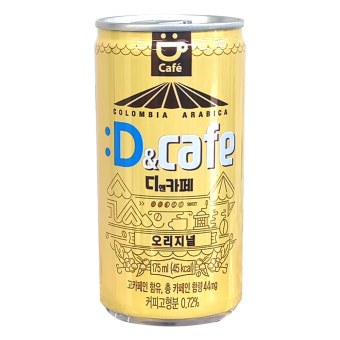paper: (91, 14, 244, 327)
